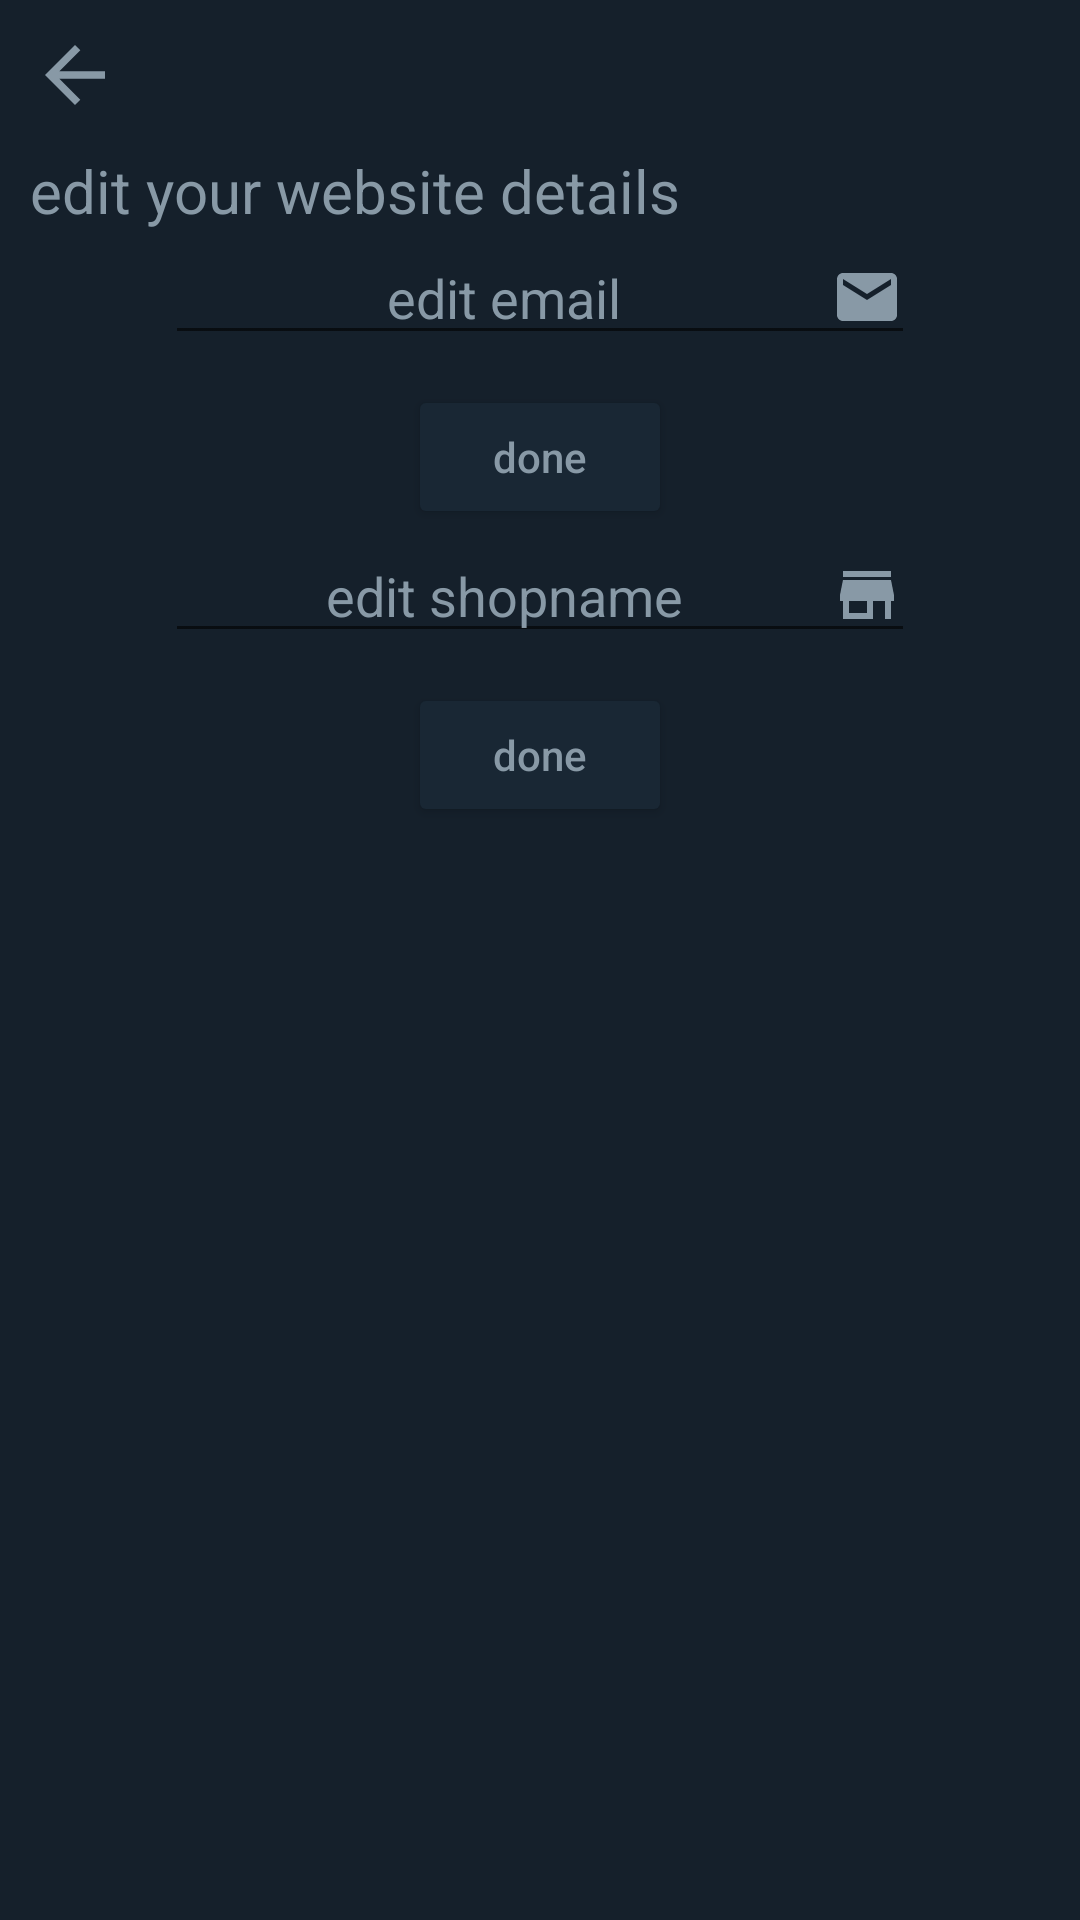

Screen size 1080×1920. Icon name, then its box in pixels as (x1, y1, x2, y2):
arrow back: (45, 45, 105, 105)
